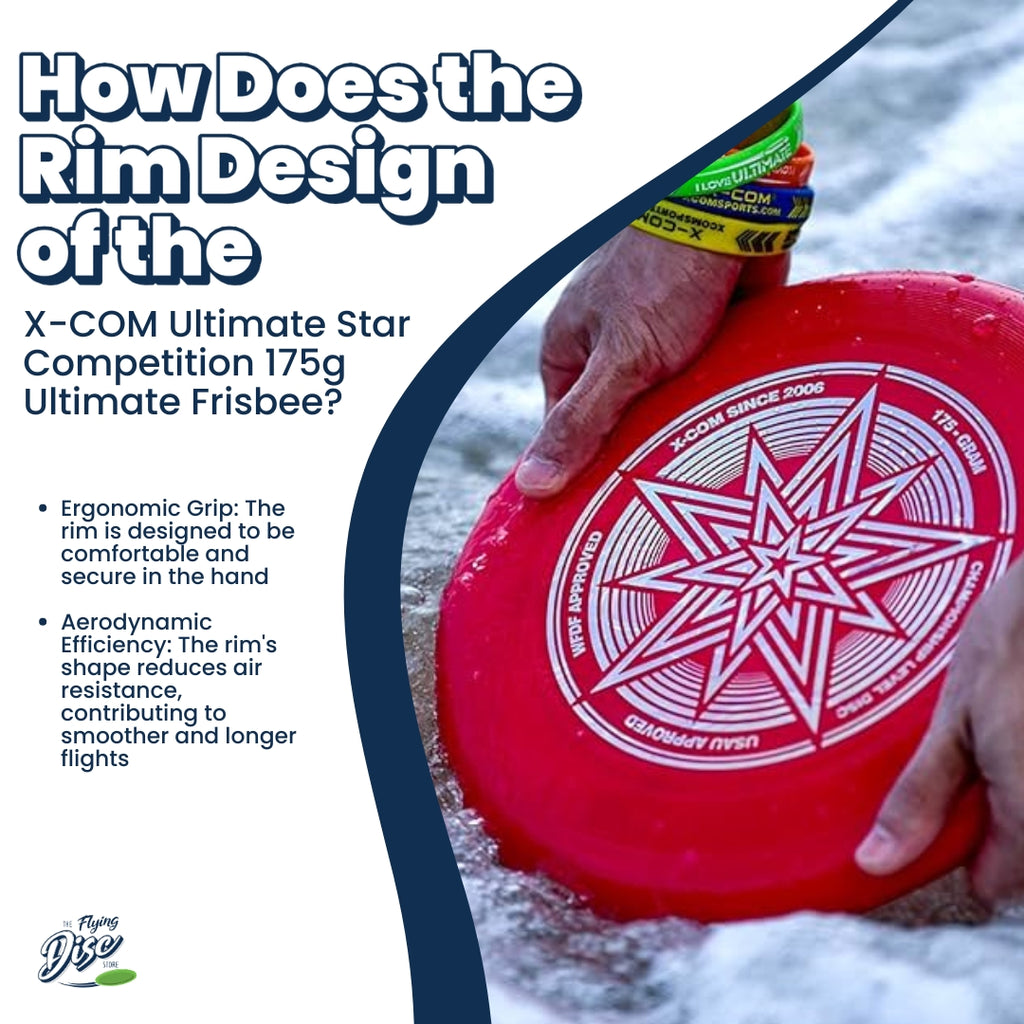disc: (445, 265, 1024, 922)
